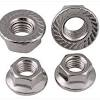Thread: (7, 14, 40, 42), (14, 55, 38, 77), (65, 56, 86, 76)
